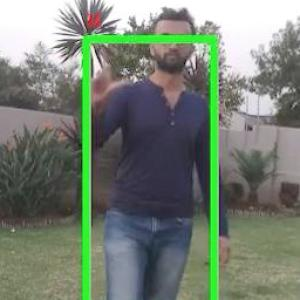land_hand: (87, 39, 130, 100)
